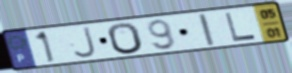1: (33, 30, 58, 64)
9: (146, 17, 178, 51)
I: (196, 12, 217, 47)
J: (72, 25, 100, 60)
L: (223, 11, 259, 43)
O: (106, 22, 146, 56)
